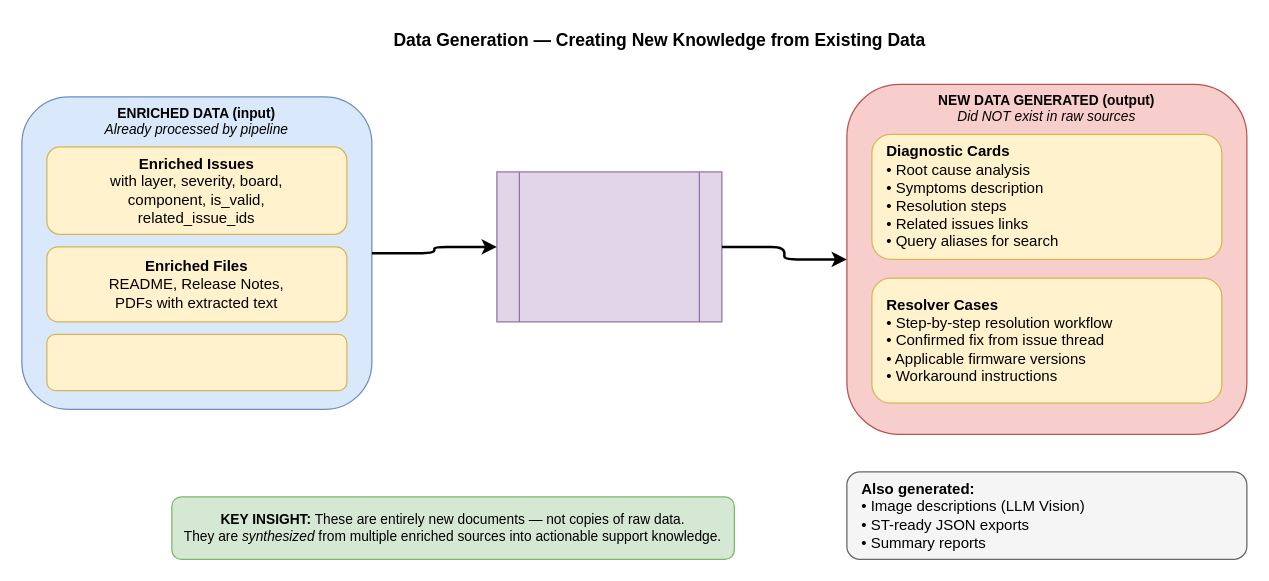
Some shapes in this 1269 by 581 pixel diagram are drawn without their labels. Here are the shapes that lost their labels. From the top down, the centre of each, then its label:
point 609,246: DATA GENERATION STAGE Synthesize new support artifacts from enriched data
point 196,362: Similarity Links related_issue_ids
